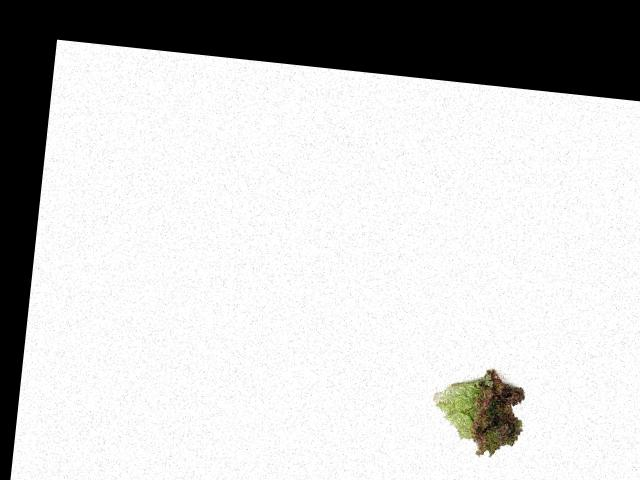lettuce: (425, 355, 540, 465)
